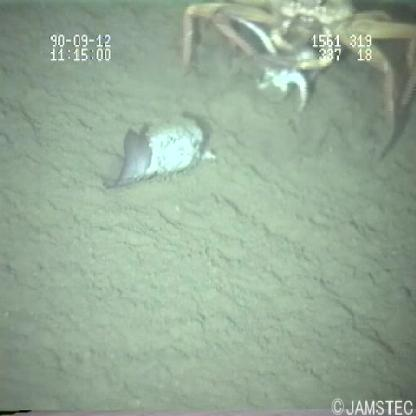Bio: (177, 1, 416, 160), (100, 109, 228, 200)
